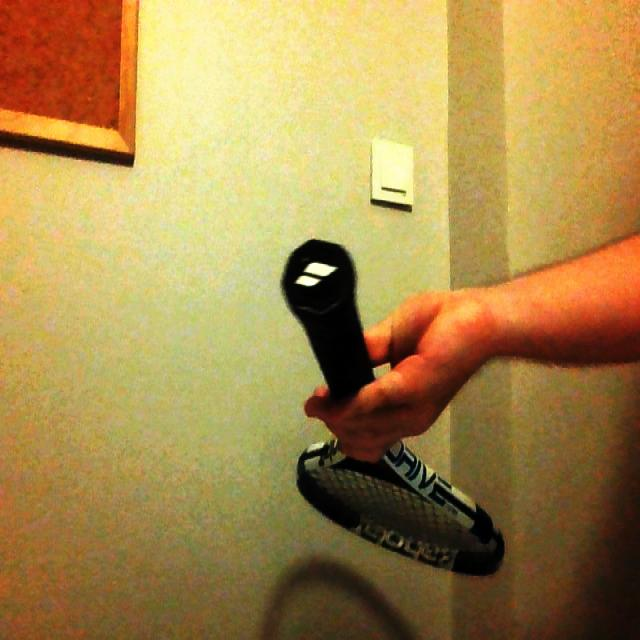TennisRacket: (285, 237, 512, 580)
